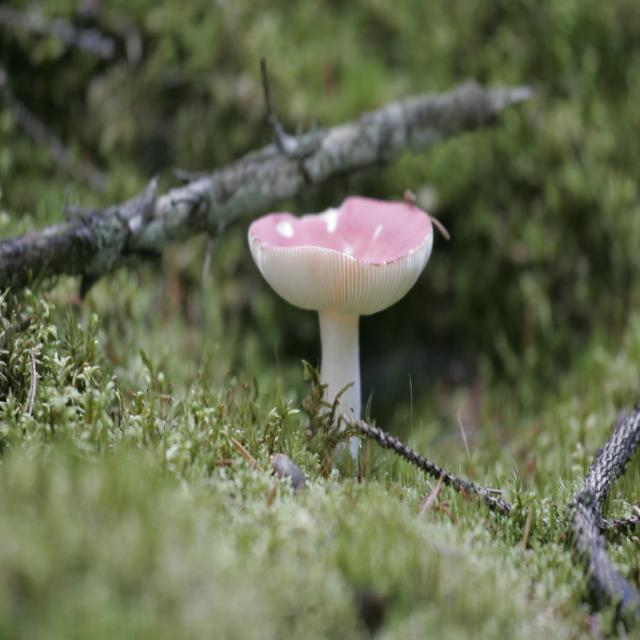Mushroom: (249, 196, 433, 470)
